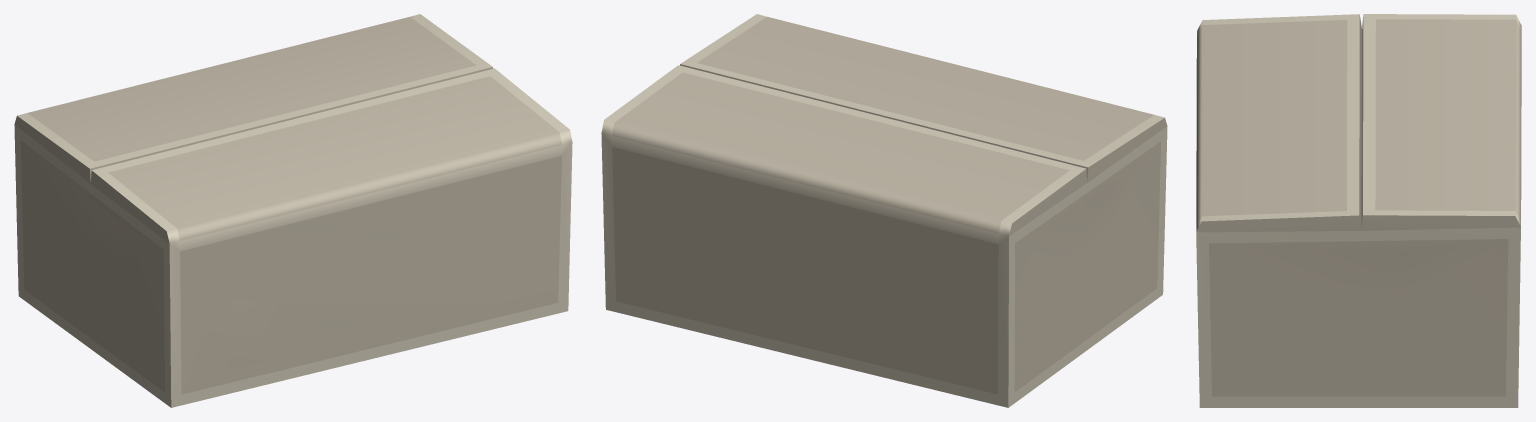
The model's file is BoxE.glb.
The picture shows the model from 3 angles, left to right: view 1: azimuth 30°, elevation 25°; view 2: azimuth 150°, elevation 25°; view 3: azimuth 270°, elevation 25°; orthographic projection. The views are drawn at different scales.
Visible parts, largest first — view 1: BoxE; view 2: BoxE; view 3: BoxE.
Boxes of the visible parts, x1=… form: BoxE: x1=14, y1=14, x2=572, y2=407; BoxE: x1=601, y1=14, x2=1167, y2=407; BoxE: x1=1196, y1=14, x2=1521, y2=407.
Size of the model in its own units: 1.17 by 0.5147 by 0.7822.
